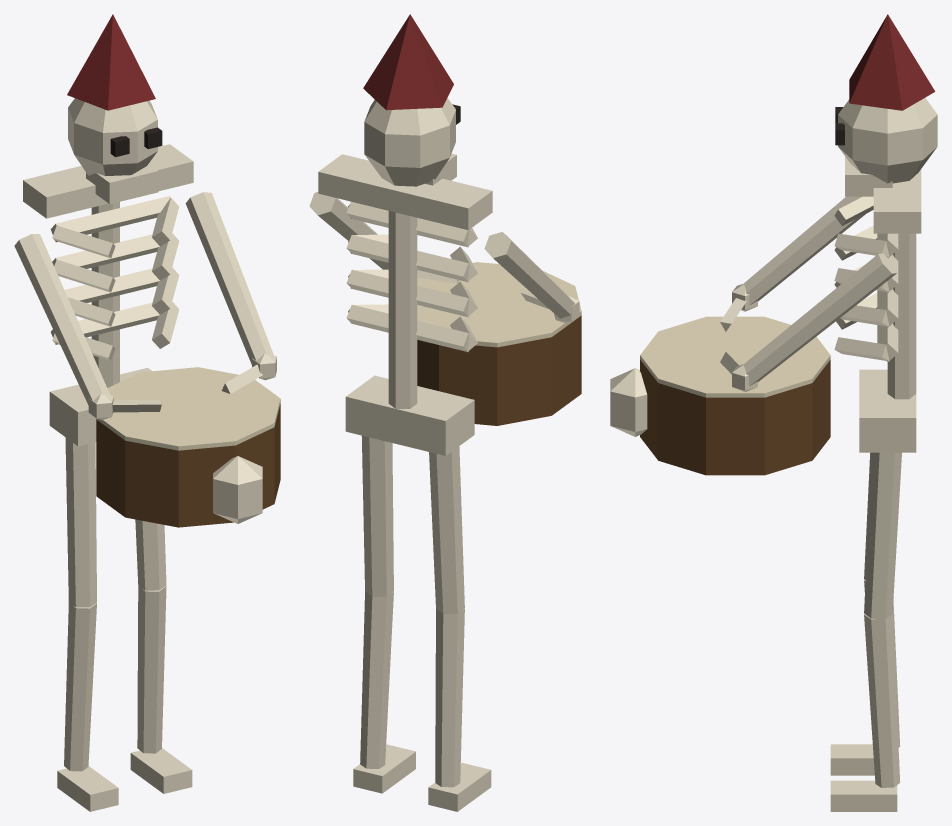
The model's file is knochentrommler.glb.
3 renders of one model, left to right at view 1: azimuth 30°, elevation 25°; view 2: azimuth 150°, elevation 25°; view 3: azimuth 270°, elevation 25°, orthographic. The views are drawn at different scales.
Size of the model in its own units: 0.4719 by 1.79 by 0.6871.
1 material, 1 textured.
